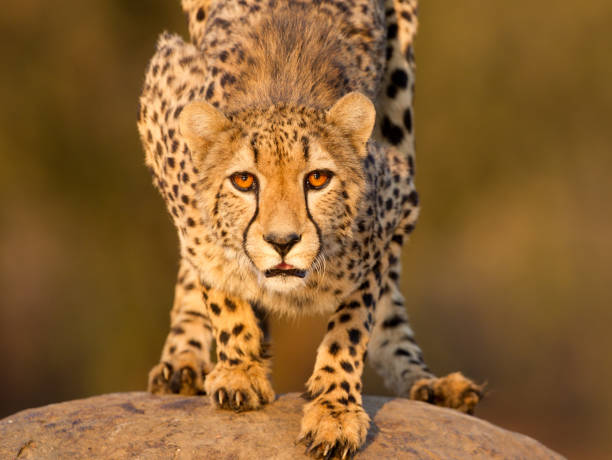cheetah: (171, 84, 377, 312)
